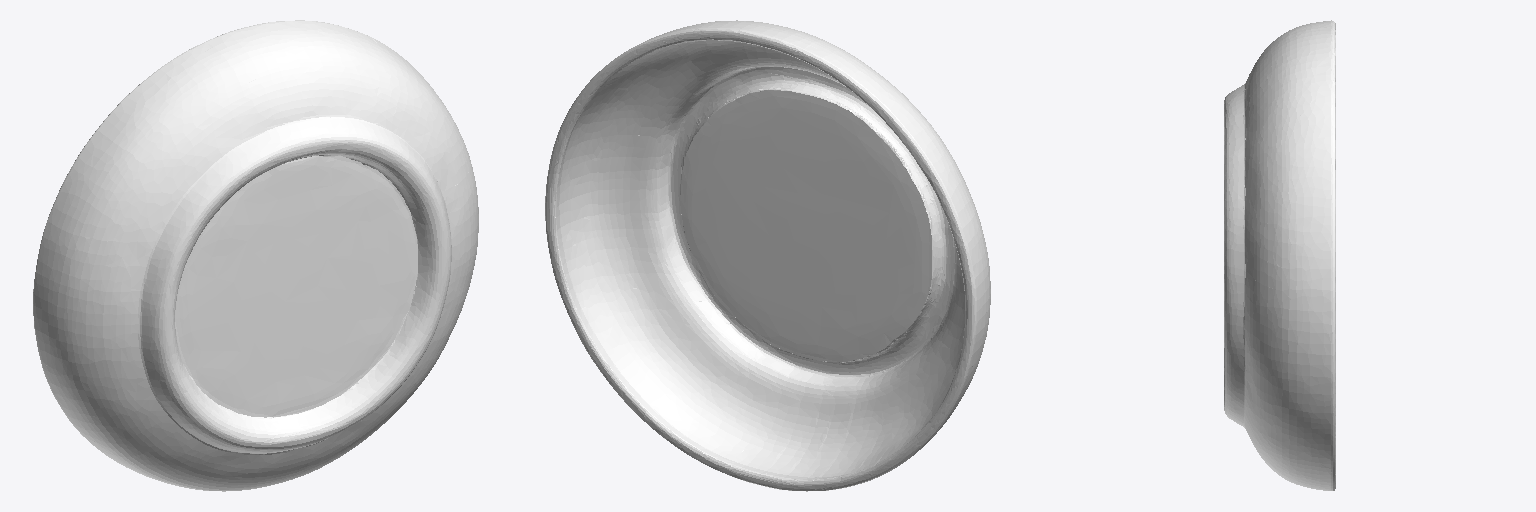
The robot description file, URDF, robot "bowl":
<?xml version="1.0" ?>
<robot name="bowl">
    <link name="baseLink">
        <contact>
        <friction_anchor/>
        <lateral_friction value="1.5"/>
        <rolling_friction value="0.1"/>
        <spinning_friction value="0.1"/>
        <contact_cfm value="1e-5"/>
        <contact_erp value="0.8"/>
        </contact>
        <visual>
            <origin rpy="0 0 0" xyz="0 0 0"/>
            <geometry>
                <mesh filename="assets/objects/bowl/meshes/bowl_textured.obj" scale="1 1 1"/>
            </geometry>
            <material name="white">
                <color rgba="1 1 1 1"/>
            </material>
        </visual>
        <collision>
            <origin rpy="0 0 0" xyz="0 0 0"/>
            <geometry>
                <mesh filename="assets/objects/bowl/meshes/bowl_textured.obj" scale="1 1 1"/>
            </geometry>
        </collision>
        <inertial>
            <origin rpy="0 0 0" xyz="0 0 0"/>
            <mass value="1.0"/>
            <inertia ixx="0.1" ixy="0" ixz="0" iyy="0.1" iyz="0" izz="0.1"/>
        </inertial>
    </link>
</robot>

--- What the picture shows (computed from the rendered views, not written in the file) ---
Views: 3 orthographic renders of the robot side by side, from view 1: azimuth 30°, elevation 25°; view 2: azimuth 150°, elevation 25°; view 3: azimuth 270°, elevation 25°.
Model bowl with 1 links and 0 joints (none), rooted at baseLink, posed all joints at 0.
Links seen in each view (by area): view 1: baseLink; view 2: baseLink; view 3: baseLink.
Link boxes in pixels (x1,y1,x2,y2): baseLink: (33,20,478,491); baseLink: (545,20,990,491); baseLink: (1224,20,1335,490).
Size in the robot's own frame: 0.9998 by 0.2392 by 0.9998 metres.
Meshes: 1 distinct files referenced, 1 mesh visuals loaded (1 OBJ).
